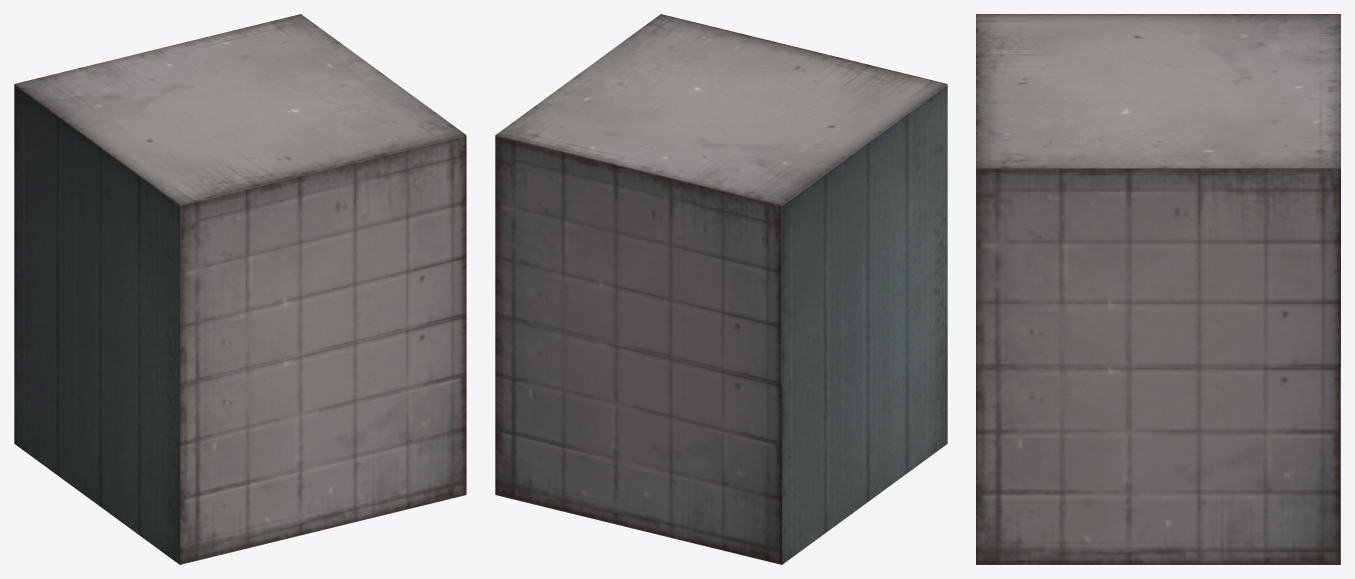
File: SimpleBottom.fbx
The picture shows the model from 3 angles, left to right: view 1: azimuth 30°, elevation 25°; view 2: azimuth 150°, elevation 25°; view 3: azimuth 270°, elevation 25°; orthographic projection. The views are drawn at different scales.
Visible parts, largest first — view 1: Cube.076; view 2: Cube.076; view 3: Cube.076.
Part boxes in pixels (x1,y1,x2,y2): Cube.076: (14,14,466,564); Cube.076: (495,14,947,564); Cube.076: (976,14,1340,564).
Size of the model in its own units: 1 by 1.2 by 1.
